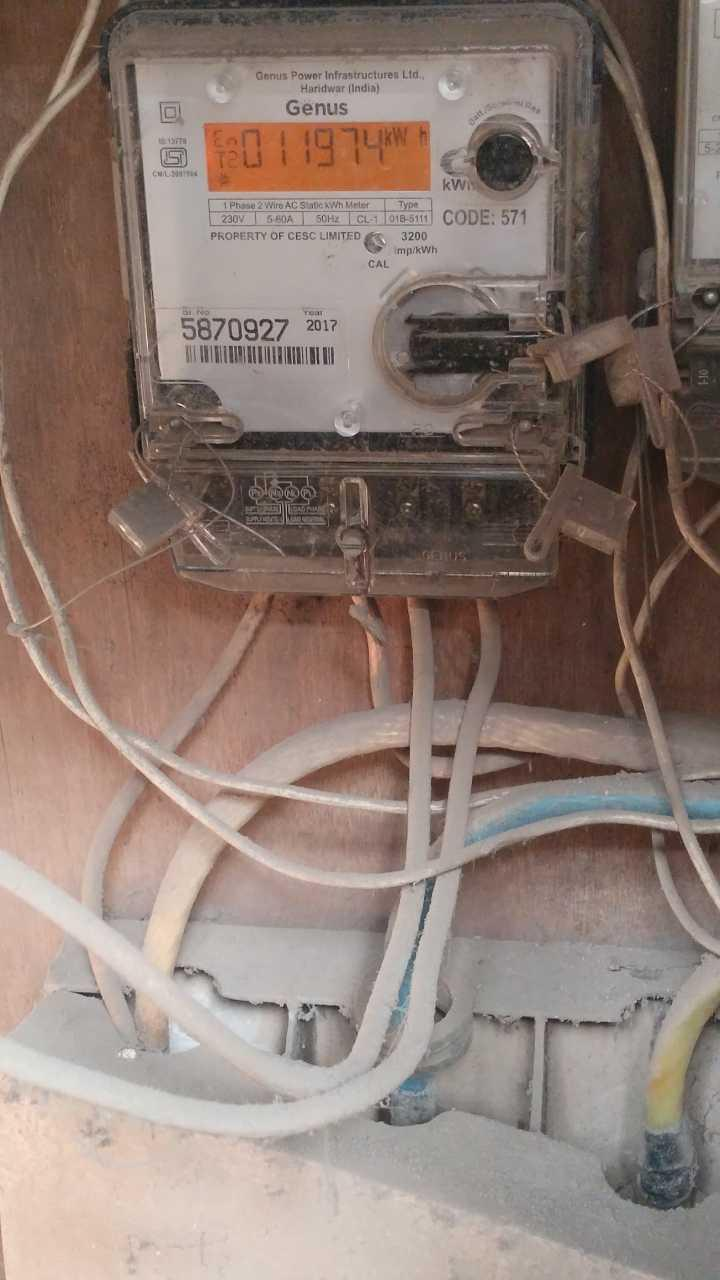meter_readings: (239, 128, 384, 173)
serial_number: (178, 315, 293, 344)
